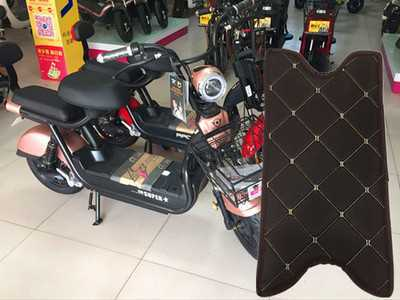电动车: (12, 63, 266, 258)
